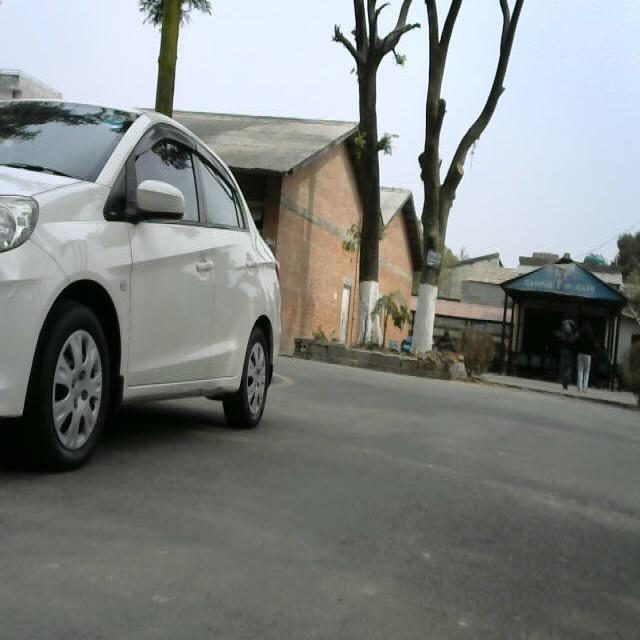Car: (0, 94, 302, 464)
trees: (192, 353, 624, 637), (406, 0, 499, 376), (344, 0, 392, 365)
